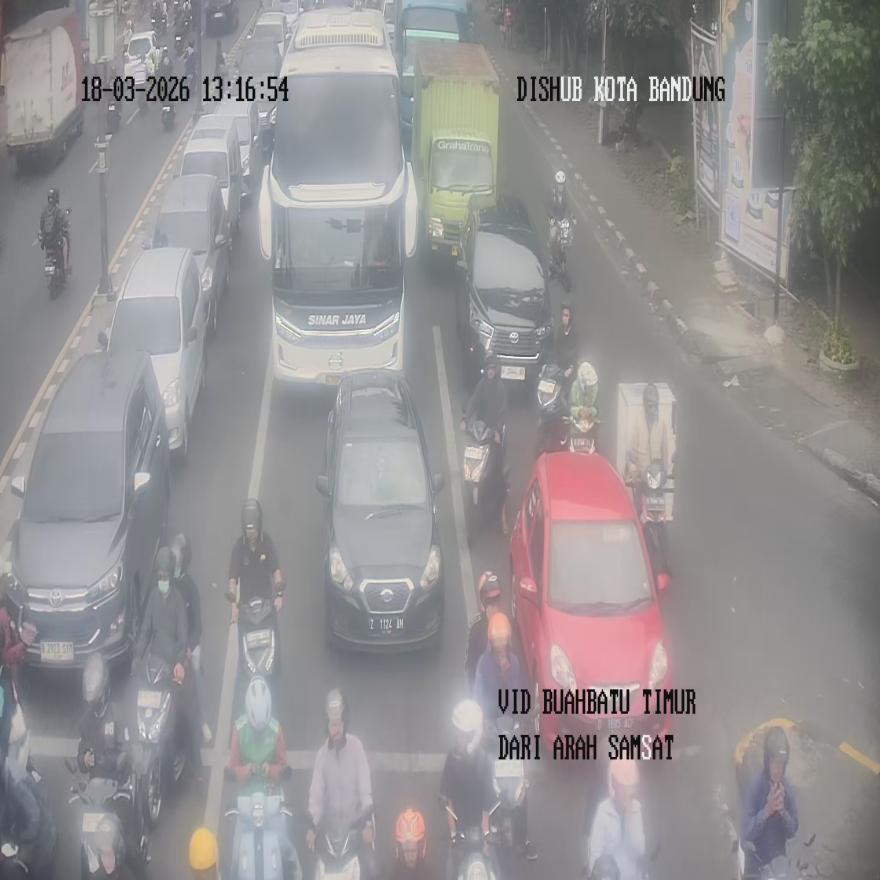Mobil: (6, 343, 170, 676), (509, 450, 671, 758), (316, 369, 445, 650), (104, 246, 206, 455), (455, 193, 555, 391), (2, 7, 85, 170), (150, 174, 230, 338), (181, 114, 243, 257)
Motor: (65, 729, 150, 879), (738, 726, 798, 879), (134, 656, 186, 831), (224, 764, 297, 879), (0, 755, 59, 880), (486, 722, 531, 858), (628, 460, 672, 592), (227, 576, 282, 680), (462, 417, 510, 536), (446, 798, 500, 879), (314, 810, 375, 880), (534, 360, 570, 456), (566, 361, 600, 455), (38, 209, 72, 299), (549, 216, 572, 292), (160, 101, 174, 130)
Truk ringan: (411, 43, 501, 263)
bus: (258, 7, 419, 386)
